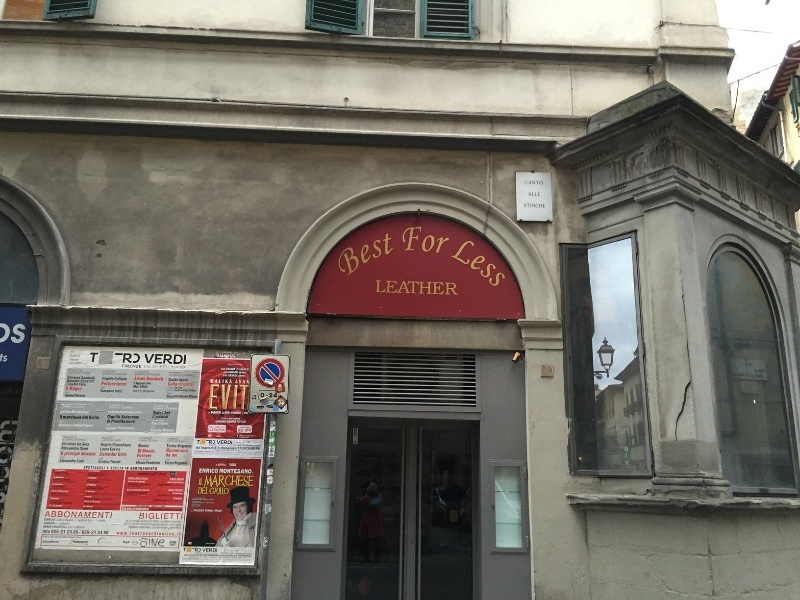text: (481, 238, 496, 288), (337, 233, 352, 279), (353, 233, 368, 279), (369, 233, 384, 279), (129, 471, 144, 511), (145, 471, 160, 511), (161, 471, 176, 511), (65, 470, 80, 509), (81, 470, 96, 509), (469, 238, 480, 288), (401, 221, 416, 253), (417, 221, 432, 253), (433, 221, 448, 253), (497, 238, 506, 288), (65, 436, 80, 465), (81, 436, 96, 465), (97, 436, 112, 465), (113, 436, 128, 465), (177, 371, 192, 399), (385, 233, 394, 279), (1, 323, 16, 350), (113, 369, 129, 394), (177, 471, 187, 511), (225, 384, 240, 410), (55, 470, 64, 509), (211, 384, 224, 410), (81, 376, 96, 398), (145, 372, 160, 394), (68, 376, 80, 398), (81, 351, 91, 376), (17, 323, 26, 350), (385, 280, 400, 296), (401, 280, 416, 296), (417, 280, 432, 296), (433, 280, 448, 296), (241, 384, 250, 410), (97, 470, 103, 509), (71, 351, 80, 376), (103, 369, 112, 394), (209, 425, 224, 439), (225, 425, 240, 439), (241, 425, 256, 439), (209, 476, 224, 490), (225, 476, 240, 490), (193, 498, 208, 512), (135, 372, 144, 394), (169, 371, 176, 399), (193, 371, 200, 399), (209, 498, 223, 512), (177, 436, 193, 448), (241, 476, 254, 490), (49, 518, 64, 530), (65, 518, 80, 530), (81, 518, 96, 530), (113, 403, 128, 415), (145, 436, 160, 448), (161, 436, 176, 448), (129, 403, 143, 415), (145, 354, 160, 365), (161, 354, 176, 365), (49, 536, 64, 547), (65, 536, 80, 547), (129, 519, 144, 530), (145, 519, 160, 530), (161, 519, 176, 530), (449, 280, 458, 296), (333, 233, 336, 279), (225, 368, 240, 377), (1, 354, 16, 363), (129, 354, 141, 365), (376, 280, 384, 296), (449, 221, 453, 253), (210, 487, 224, 496), (225, 351, 240, 359), (49, 511, 64, 519), (65, 511, 80, 519), (81, 511, 96, 519), (97, 511, 112, 519), (113, 416, 128, 424), (145, 458, 160, 466), (161, 458, 176, 466), (129, 436, 133, 465), (97, 518, 106, 530), (145, 513, 160, 520), (161, 513, 176, 520), (177, 354, 186, 365), (81, 536, 90, 547), (529, 203, 545, 209), (129, 416, 141, 424), (150, 538, 160, 547), (177, 458, 188, 466), (61, 436, 64, 465), (529, 180, 543, 186), (126, 471, 128, 511), (225, 418, 240, 423), (129, 531, 144, 536), (145, 531, 160, 536), (161, 531, 176, 536), (65, 415, 80, 420), (193, 553, 208, 558), (209, 553, 224, 558), (225, 553, 240, 558), (241, 368, 249, 377), (199, 487, 208, 495), (138, 436, 144, 448), (210, 379, 224, 384), (82, 530, 96, 535), (261, 392, 272, 398), (161, 372, 164, 394), (216, 351, 224, 359), (200, 478, 208, 486), (136, 458, 144, 466), (529, 193, 544, 197), (209, 411, 224, 415), (225, 411, 240, 415), (90, 353, 96, 363), (65, 424, 80, 428), (113, 426, 128, 430), (177, 448, 189, 453), (98, 531, 112, 535), (117, 531, 128, 536), (43, 536, 48, 547), (177, 519, 182, 530), (241, 553, 252, 558), (129, 365, 142, 369), (211, 446, 224, 450), (67, 530, 80, 534), (83, 416, 96, 420), (81, 424, 94, 428), (195, 548, 208, 552), (131, 467, 144, 471), (145, 467, 158, 471), (198, 440, 208, 445), (180, 366, 192, 370), (196, 446, 208, 450), (52, 530, 64, 534), (84, 466, 96, 470), (161, 366, 176, 369), (225, 487, 230, 496), (161, 538, 166, 547), (167, 448, 176, 453), (209, 548, 218, 553), (183, 548, 192, 553), (124, 354, 128, 365), (177, 513, 183, 520), (241, 418, 249, 423), (225, 440, 233, 445), (166, 453, 176, 457), (107, 416, 112, 424), (243, 447, 256, 450), (241, 380, 250, 384), (247, 447, 256, 451), (103, 531, 112, 535), (45, 518, 48, 530), (109, 403, 112, 415), (225, 379, 232, 384), (217, 440, 224, 445), (185, 553, 192, 558), (145, 453, 152, 458), (229, 363, 240, 366), (125, 519, 128, 530), (241, 411, 249, 415), (97, 466, 105, 470), (97, 353, 100, 363), (138, 453, 144, 458), (145, 450, 155, 453), (113, 467, 123, 470), (206, 476, 208, 490), (140, 513, 144, 520), (221, 368, 224, 377), (203, 548, 208, 553), (524, 180, 528, 186), (524, 203, 528, 209), (273, 392, 277, 398), (145, 365, 151, 369), (152, 366, 160, 369), (74, 530, 80, 534), (90, 416, 96, 420), (106, 426, 112, 430), (129, 426, 135, 430), (138, 450, 144, 454), (97, 376, 98, 398), (225, 447, 232, 450), (201, 447, 208, 450), (123, 365, 128, 369), (177, 531, 181, 536), (43, 530, 48, 534), (59, 424, 64, 428), (236, 380, 240, 384), (257, 447, 261, 451), (60, 415, 64, 419), (107, 467, 112, 470), (207, 425, 208, 439), (97, 416, 100, 420), (222, 418, 224, 423), (241, 363, 244, 366), (221, 447, 224, 450), (173, 454, 176, 457), (125, 467, 128, 470), (241, 351, 242, 359), (49, 530, 51, 534), (238, 447, 240, 450), (209, 447, 211, 450), (79, 530, 80, 535), (81, 415, 82, 420), (65, 530, 66, 534), (177, 366, 178, 369), (177, 454, 178, 457), (143, 450, 144, 453), (111, 467, 112, 470)
